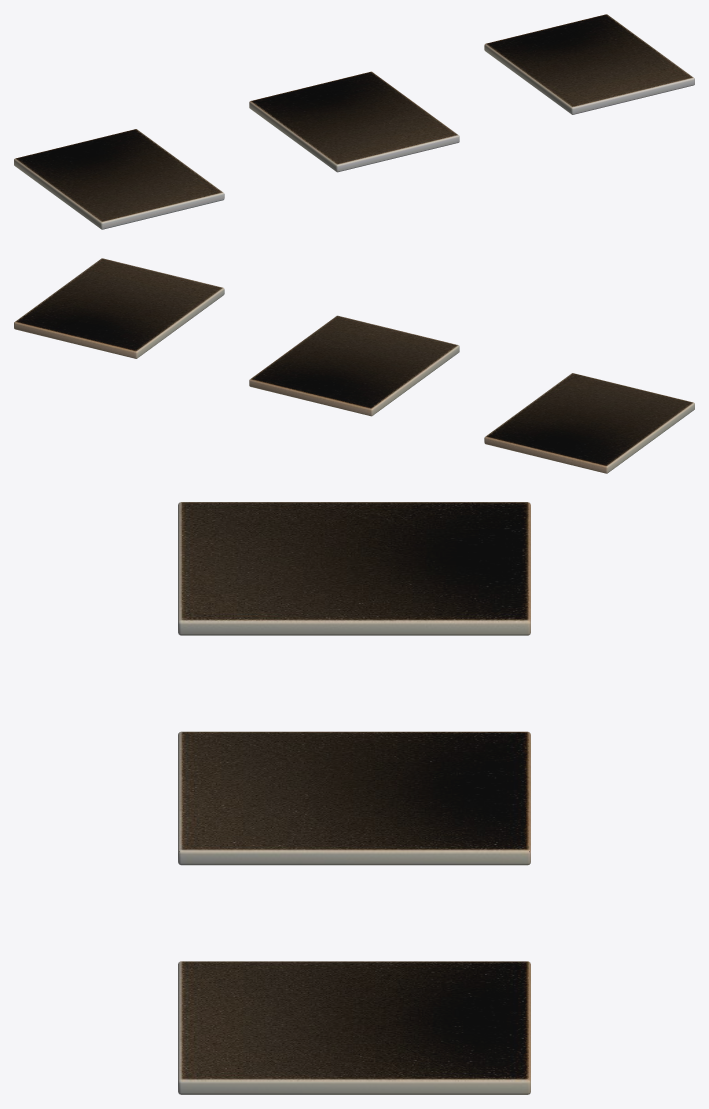
3 renders of one model, top to bottom at view 1: azimuth 30°, elevation 25°; view 2: azimuth 150°, elevation 25°; view 3: azimuth 270°, elevation 25°, orthographic. The views are drawn at different scales.
Parts seen in each view (by area): view 1: R6_final.001; view 2: R6_final.001; view 3: R6_final.001.
Boxes of the visible parts, left/top/right/bottom form: R6_final.001: left=14, top=14, right=694, bottom=229; R6_final.001: left=14, top=258, right=694, bottom=473; R6_final.001: left=178, top=502, right=530, bottom=1094.
Size of the model in its own units: 2.02 by 0.0335 by 0.52.
Materials: 1 (1 with a texture image).
